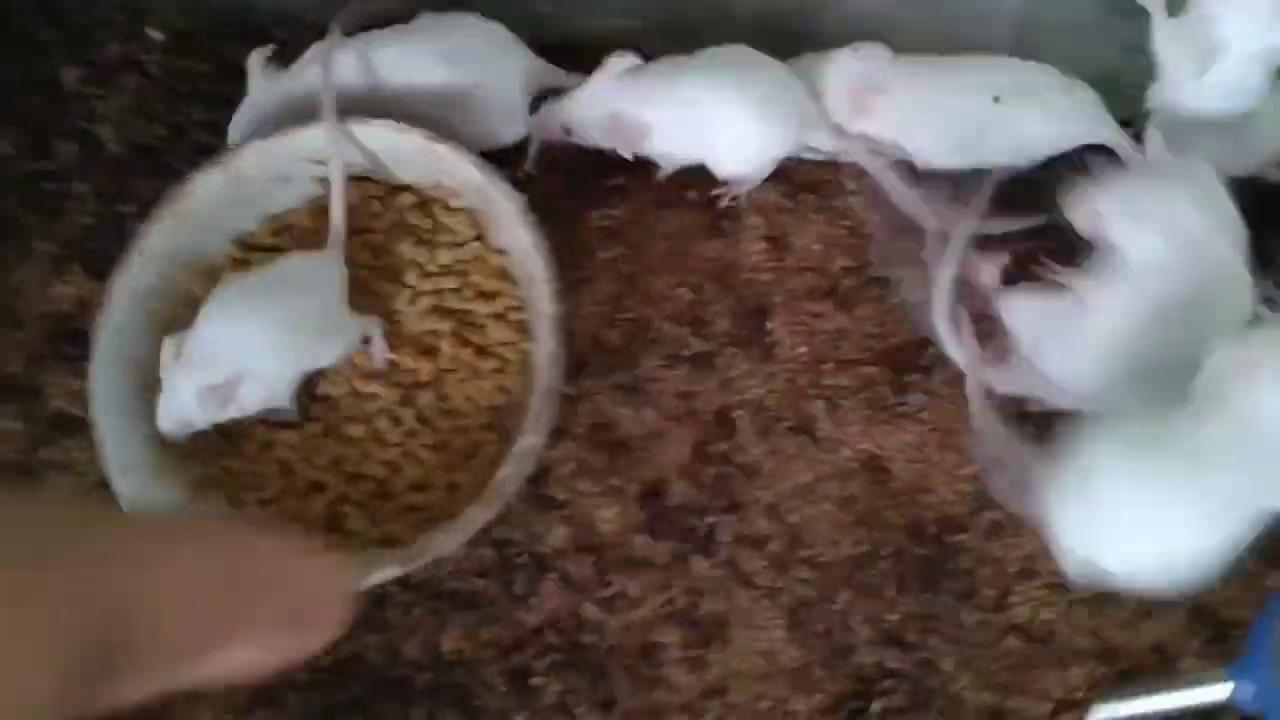rat: (154, 0, 392, 443), (228, 11, 586, 151), (534, 43, 822, 205)
